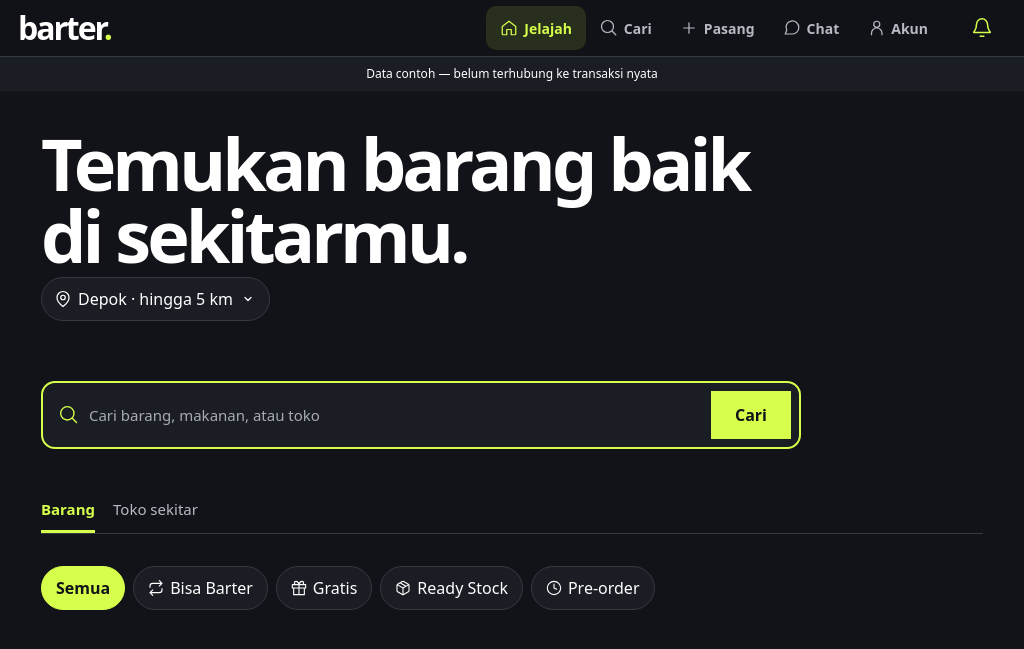
searches real listing rows and keeps the search value on detail return
This screenshot has width=1024, height=649.
Type "kursi" into the search field at (395, 415), box [89,391,701,439]
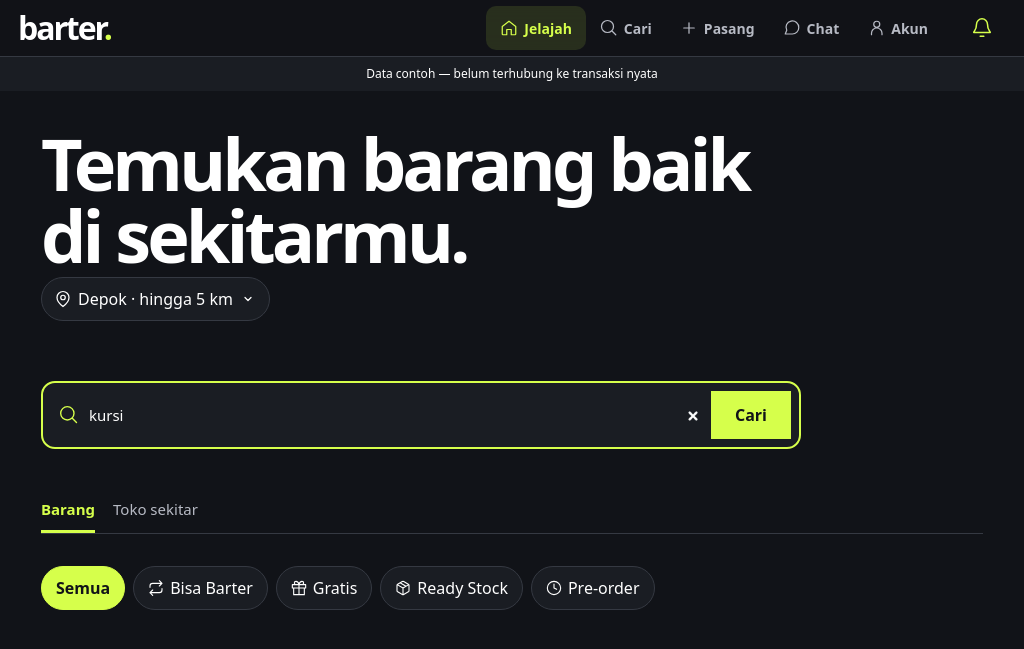
Click the button "Cari" at (751, 415), box [711,391,791,439]
(page scrolled)
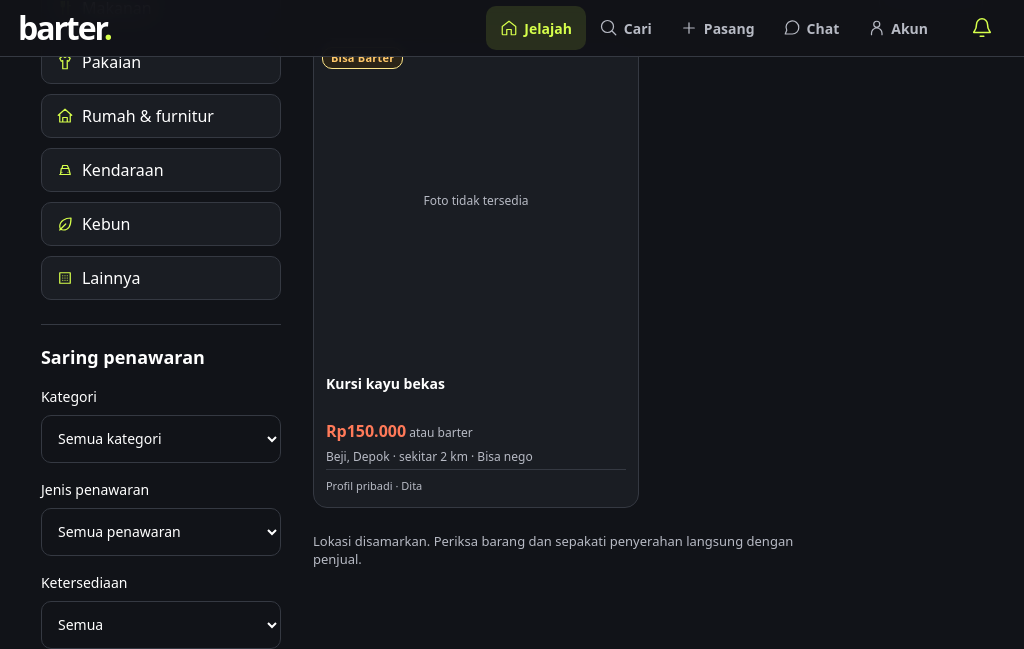
Click the link "Kursi kayu bekas" at (385, 384), box [326,374,445,393]
(page scrolled)
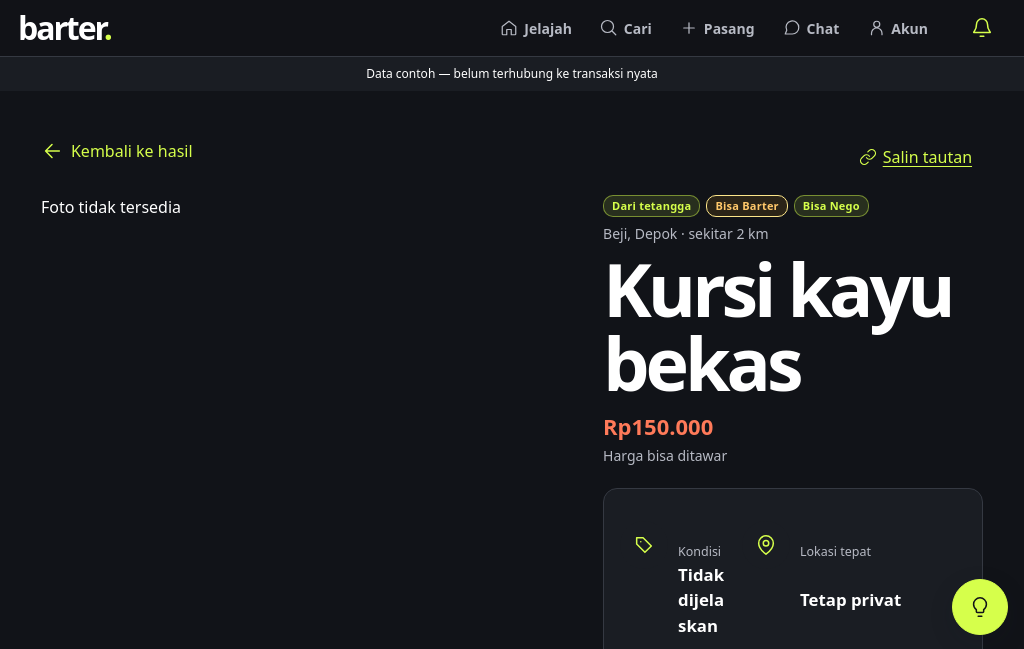
Check: the heading "Kursi kayu bekas" is shown, box [603,252,983,400]
Click the link "Kembali ke hasil" at (117, 151), box [41,140,193,162]
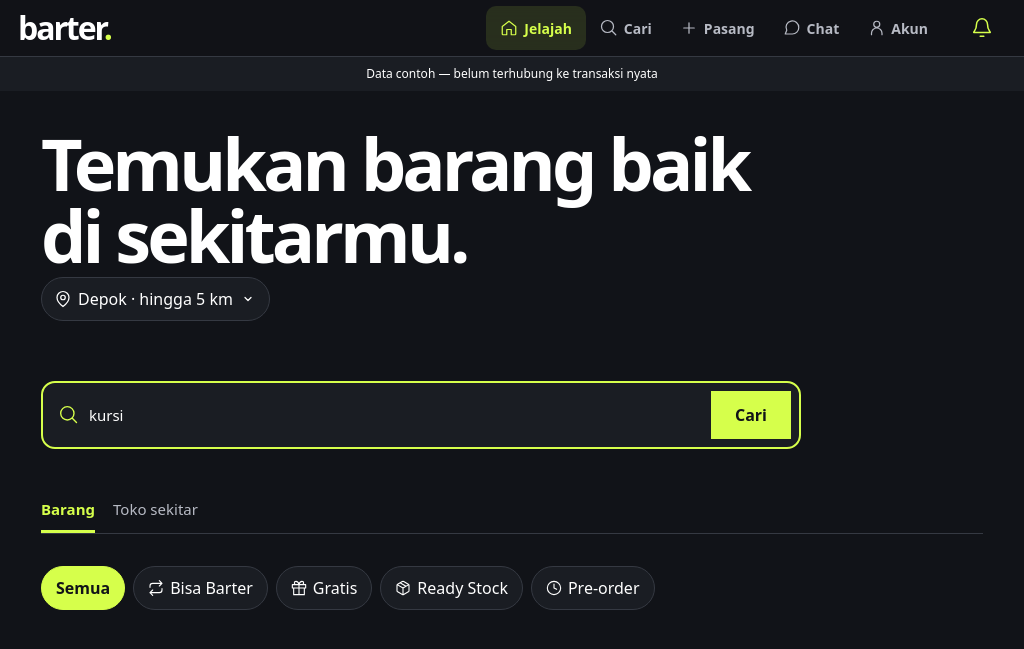
Check: the search field holds "kursi", box [89,391,701,439]
